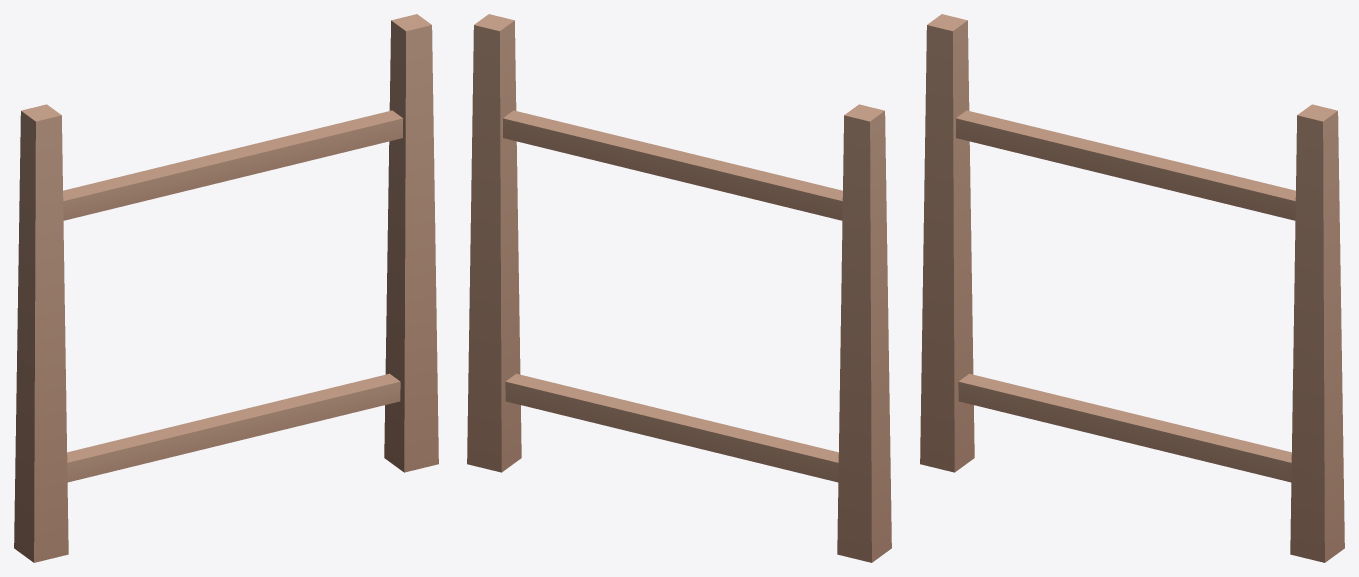
The model's file is fence.glb.
3 views of the same model, side by side, from view 1: azimuth 30°, elevation 25°; view 2: azimuth 150°, elevation 25°; view 3: azimuth 330°, elevation 25° (orthographic).
Visible parts, largest first — view 1: fence; view 2: fence; view 3: fence.
Part boxes in pixels (x1,y1,x2,y2): fence: [14, 14, 438, 562]; fence: [467, 14, 891, 562]; fence: [920, 14, 1344, 562].
Size of the model in its own units: 0.5 by 0.5175 by 0.0428.
